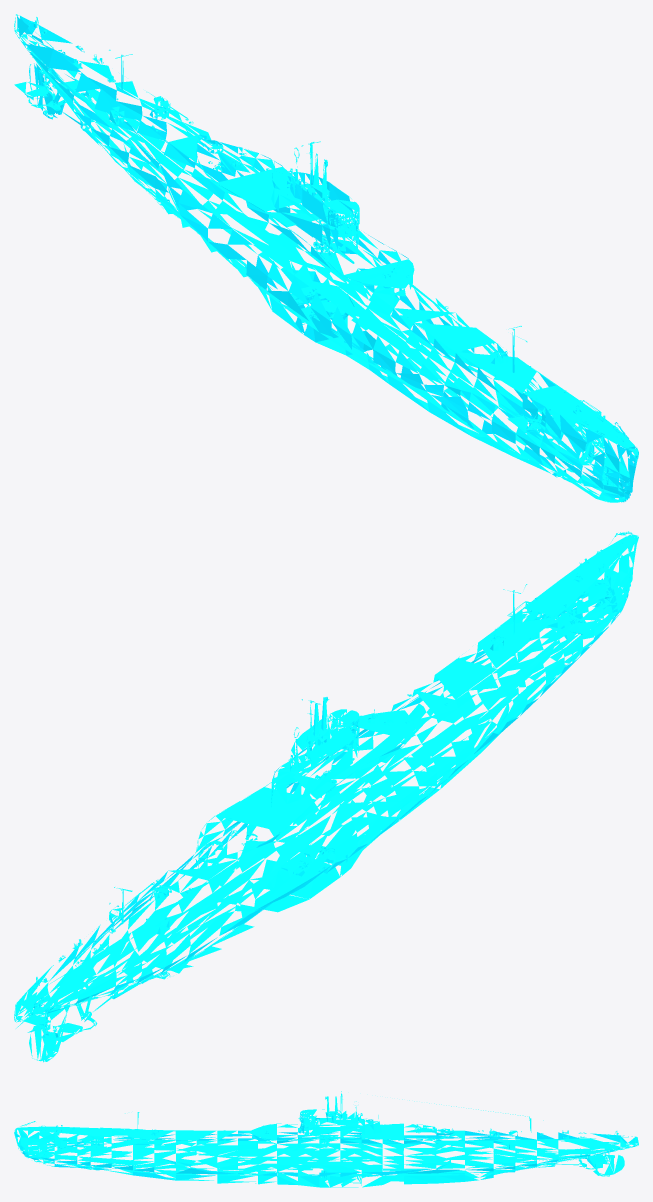
Rendered from Pietro_Micca.glb.
The picture shows the model from 3 angles, top to bottom: view 1: azimuth 30°, elevation 25°; view 2: azimuth 150°, elevation 25°; view 3: azimuth 270°, elevation 25°; orthographic projection. The views are drawn at different scales.
Bounding box in the file's own units: 0.5108 × 0.9611 × 6.03.
